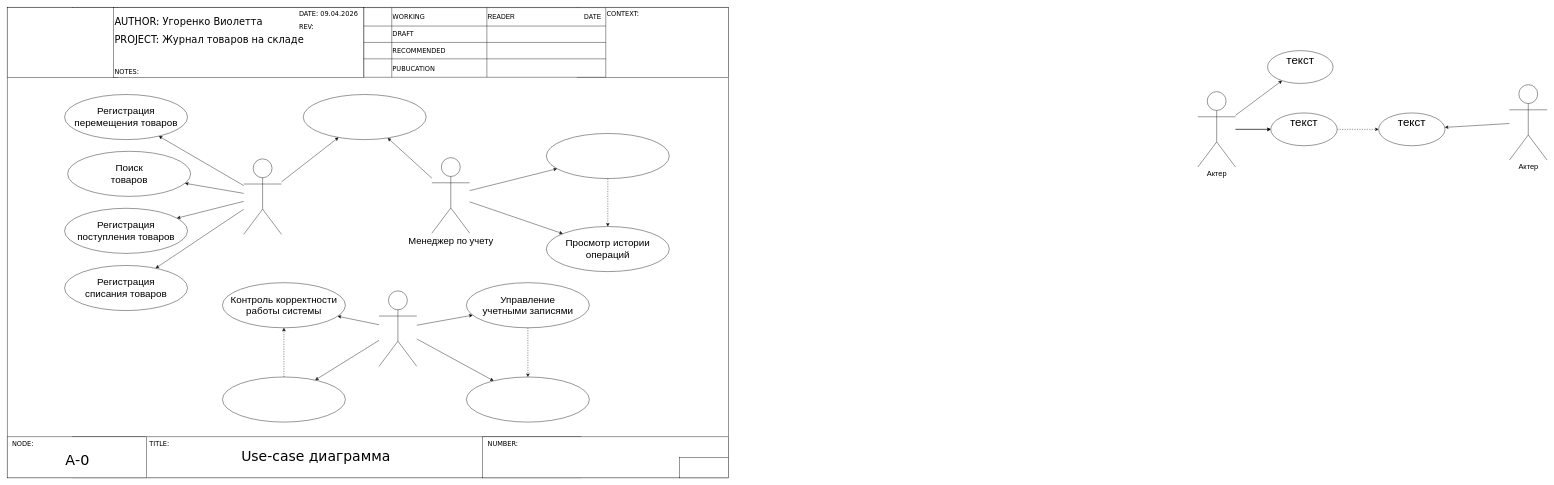
Image size: 1554x485. Some labels were removed from this diagram. The centre of each missing label's shape, as x and y in pixels:
"USET AT:" belongs at point (62, 42).
"Администратор" belongs at point (398, 328).
"Кладовщик" belongs at point (262, 196).
"Назначение и изменение ролей пользователей" belongs at point (527, 399).
"Просмотр текущих остатков" belongs at point (364, 117).
"Управление справочниками товаров и складов" belongs at point (283, 399).
"Формирование отчетов" belongs at point (607, 156).
